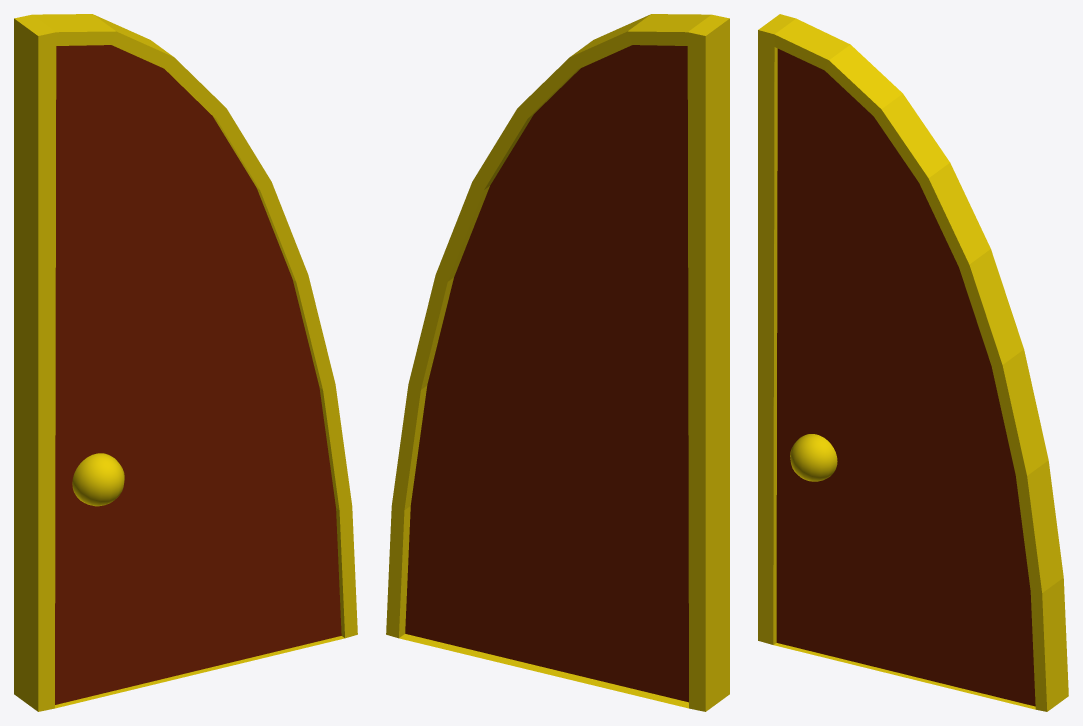
The model's file is Puerta_Drch.glb.
3 renders of one model, left to right at view 1: azimuth 30°, elevation 25°; view 2: azimuth 150°, elevation 25°; view 3: azimuth 330°, elevation 25°, orthographic. The views are drawn at different scales.
Parts seen in each view (by area): view 1: Cylinder, Sphere; view 2: Cylinder; view 3: Cylinder, Sphere.
Boxes of the visible parts, bbox=[...] form: Cylinder: bbox=[14, 14, 357, 711]; Sphere: bbox=[72, 453, 124, 506]; Cylinder: bbox=[386, 14, 729, 711]; Cylinder: bbox=[758, 14, 1068, 711]; Sphere: bbox=[790, 434, 837, 481].
Bounding box in the file's own units: 0.8179 × 1.66 × 0.1603.
